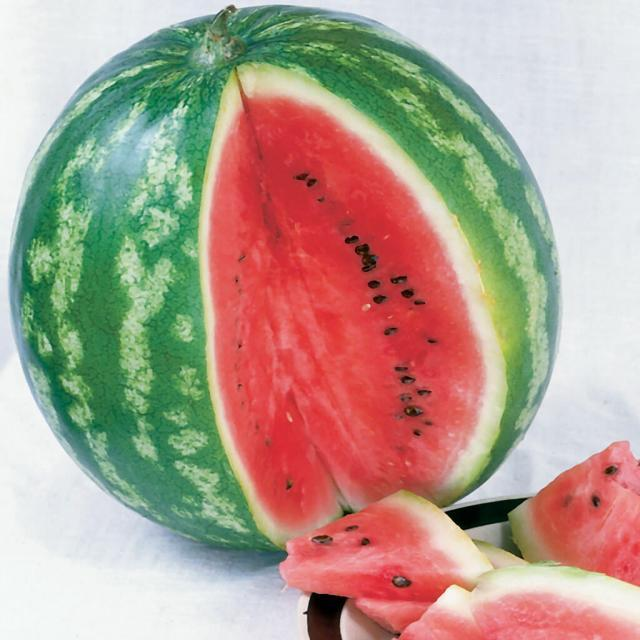WATERMELON: (12, 7, 566, 551), (274, 494, 488, 604), (391, 563, 640, 639), (510, 439, 640, 584)
